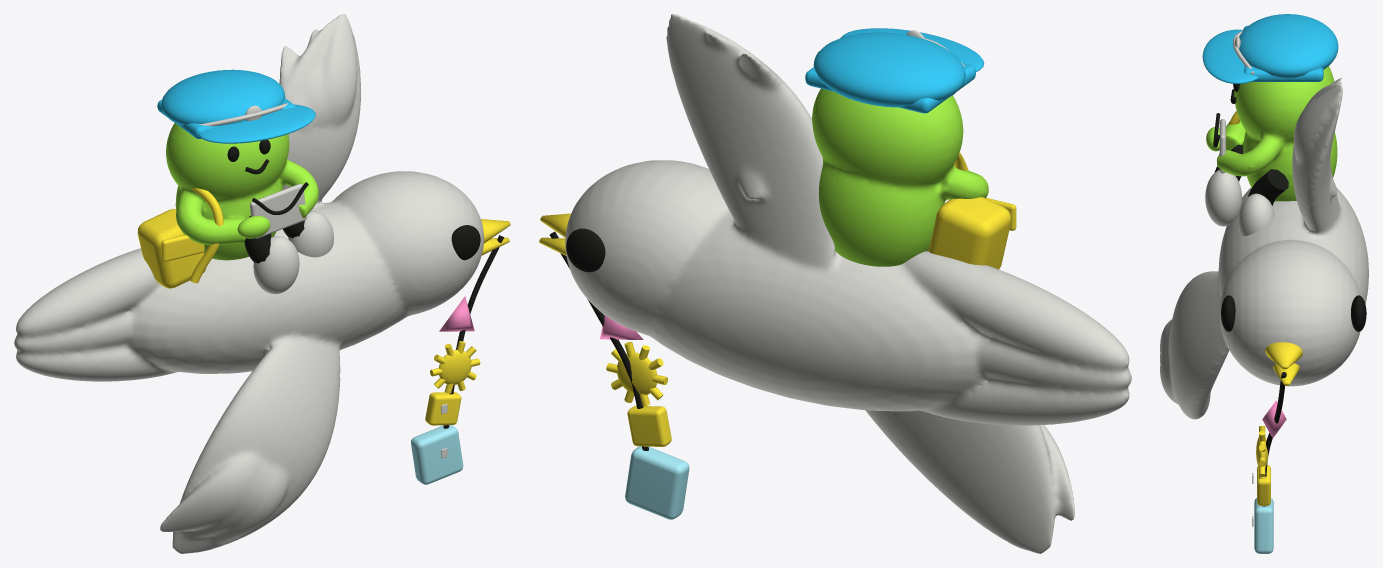
The model's file is bird-courier.glb.
The picture shows the model from 3 angles, left to right: view 1: azimuth 30°, elevation 25°; view 2: azimuth 150°, elevation 25°; view 3: azimuth 270°, elevation 25°; orthographic projection. The views are drawn at different scales.
Parts seen in each view (by area): view 1: Bird — seamless body wings and tail, Postman continuous sculpt, Cap crown, Yellow satchel, Cap projecting visor, Blue hanging parcel, White boot, Envelope, White boot.001, Yellow hanging parcel, Satchel strap, Sun charm center (+4 smaller); view 2: Bird — seamless body wings and tail, Postman continuous sculpt, Cap crown, Yellow satchel, Blue hanging parcel, Yellow hanging parcel, Bird black eye, Sun charm center, Cap projecting visor, Cap band; view 3: Bird — seamless body wings and tail, Postman continuous sculpt, Cap crown, Cap projecting visor, White boot, White boot.001, Blue hanging parcel, Bent trouser leg.001, Upper bill, Cap band, Bird black eye, Yellow hanging parcel (+4 smaller).
Part boxes in pixels (x1,y1,x2,y2): Bird — seamless body wings and tail: (14, 14, 484, 553); Postman continuous sculpt: (166, 123, 318, 260); Cap crown: (161, 69, 285, 125); Yellow satchel: (137, 208, 206, 288); Cap projecting visor: (198, 104, 315, 143); Blue hanging parcel: (411, 425, 463, 484); White boot: (253, 236, 299, 294); Envelope: (249, 183, 307, 238); White boot.001: (288, 211, 333, 257); Yellow hanging parcel: (425, 392, 461, 425); Satchel strap: (190, 188, 223, 283); Sun charm center: (439, 350, 471, 384); Bird — seamless body wings and tail: (565, 14, 1131, 553); Postman continuous sculpt: (812, 88, 988, 266); Cap crown: (813, 32, 965, 107); Yellow satchel: (928, 197, 1011, 269); Blue hanging parcel: (625, 446, 689, 519); Yellow hanging parcel: (627, 405, 671, 446); Bird black eye: (566, 228, 605, 272); Sun charm center: (617, 352, 657, 394); Cap projecting visor: (840, 28, 984, 71); Cap band: (805, 63, 975, 113); Bird — seamless body wings and tail: (1160, 77, 1368, 419); Postman continuous sculpt: (1217, 66, 1337, 201); Cap crown: (1239, 14, 1338, 78); Cap projecting visor: (1202, 29, 1258, 83); White boot: (1205, 170, 1241, 226); White boot.001: (1238, 193, 1274, 236); Blue hanging parcel: (1254, 498, 1273, 553); Bent trouser leg.001: (1248, 169, 1288, 205); Upper bill: (1265, 342, 1302, 369); Cap band: (1243, 25, 1323, 81); Bird black eye: (1351, 295, 1366, 331); Yellow hanging parcel: (1257, 465, 1270, 505).
Size of the model in its own units: 3.11 by 2.74 by 1.19.
